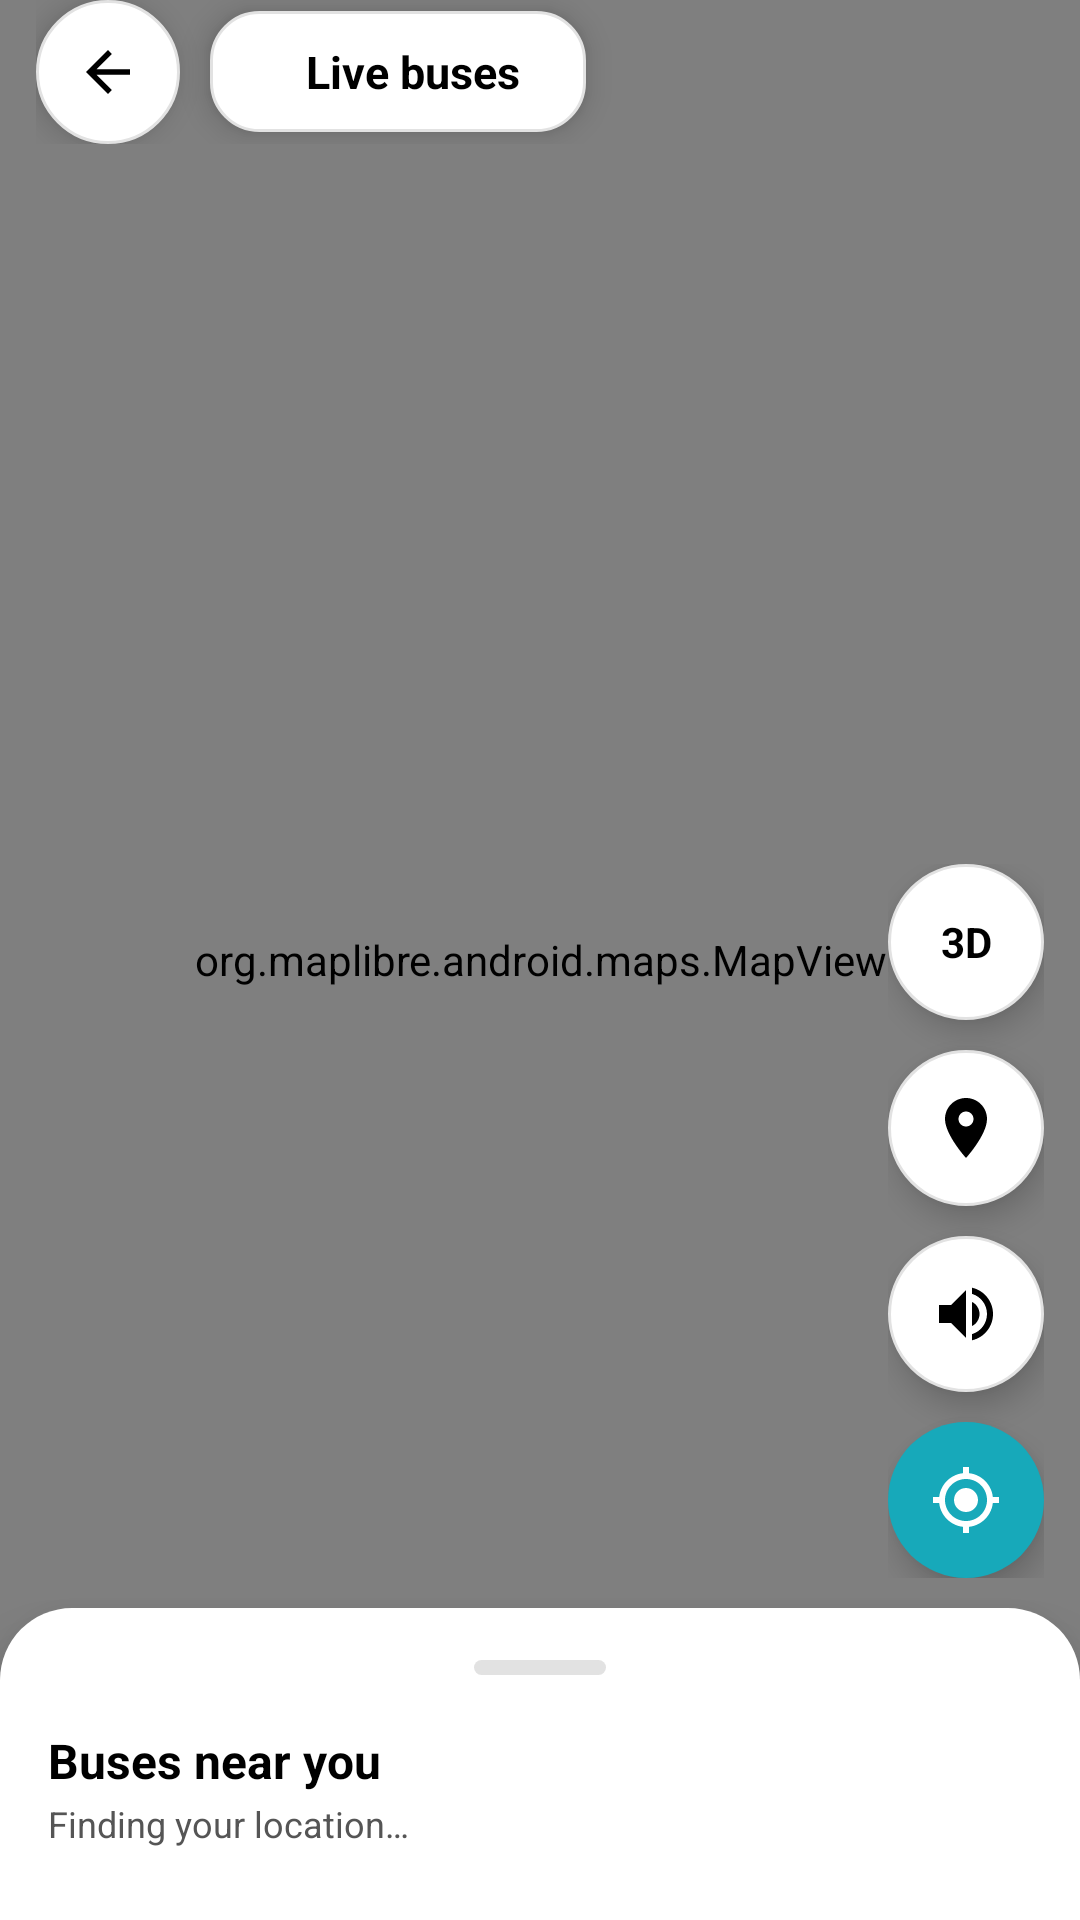

Screen size 1080w x 1920h. Icon name, then its center in pixels as [x,y]:
arrow back: [108,72]
volume up: [966,1314]
